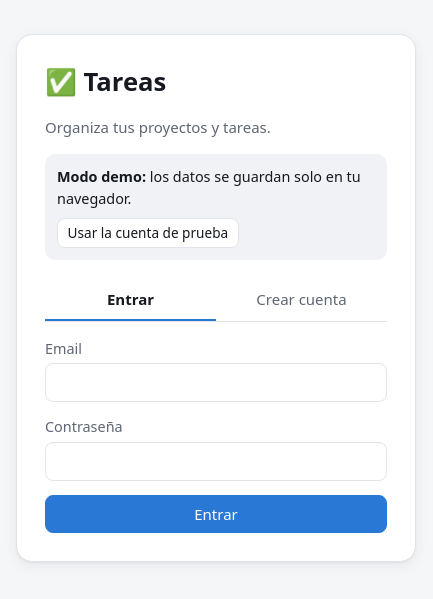
muestra un error con credenciales incorrectas
Type "demo@example.com" into the field labelled "Email". click: (216, 383)
box: [45, 363, 387, 402]
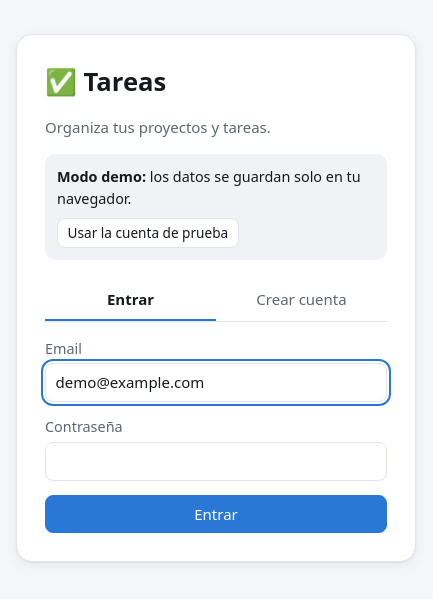
Type "incorrecta" into the password field labelled "Contraseña". click: (216, 461)
box: [45, 442, 387, 481]
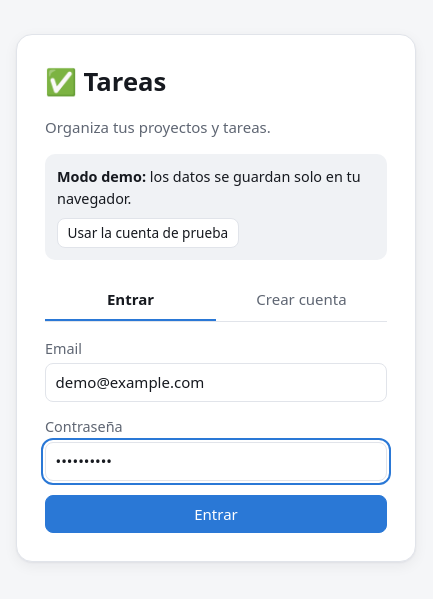
Click the button "Entrar". click: (216, 514)
box: [45, 494, 387, 533]
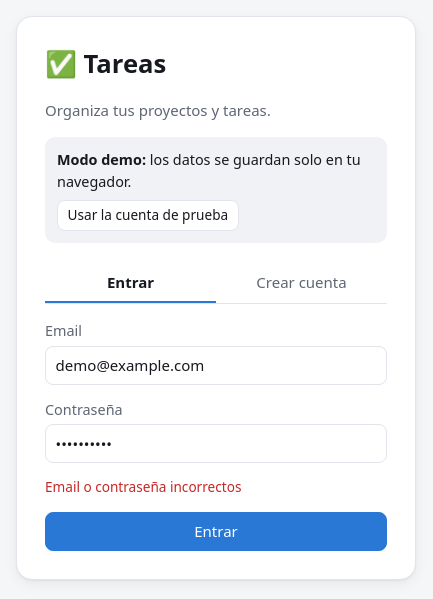
Check: the message reads "Email o contraseña incorrectos", box [45, 477, 241, 496]
